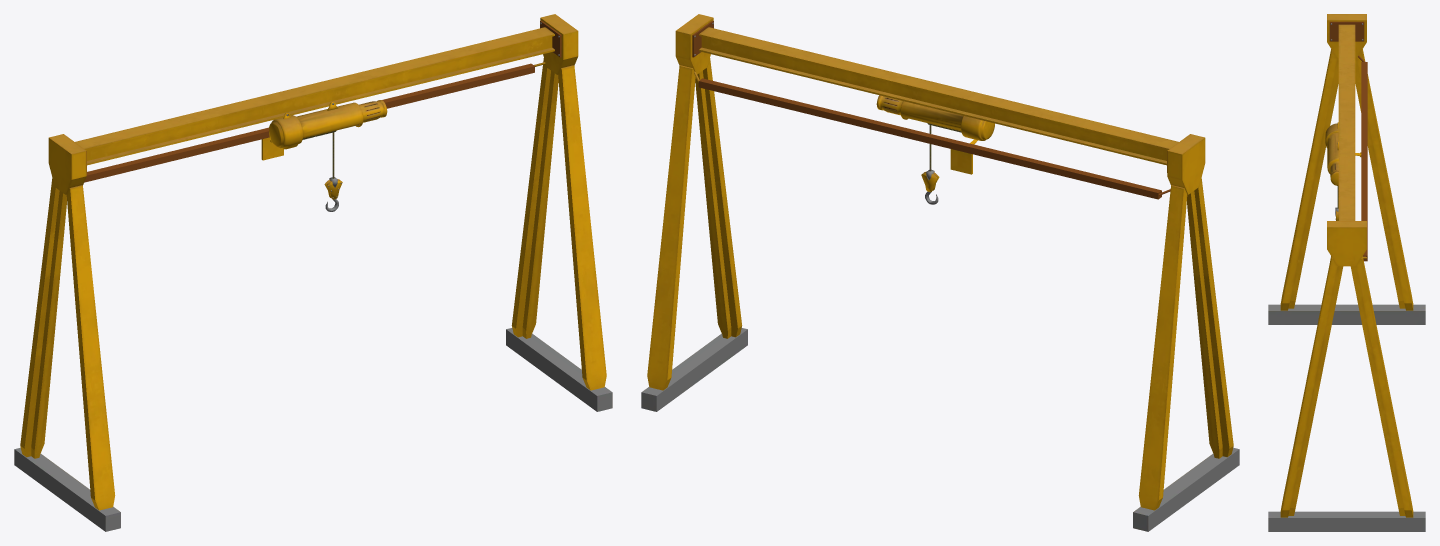
The model's file is gantry_portica.glb.
3 views of the same model, side by side, from view 1: azimuth 30°, elevation 25°; view 2: azimuth 150°, elevation 25°; view 3: azimuth 270°, elevation 25° (orthographic). The views are drawn at different scales.
Visible parts, largest first — view 1: Cylinder.001_maquina portico_0; view 2: Cylinder.001_maquina portico_0; view 3: Cylinder.001_maquina portico_0.
Part boxes in pixels (box(x1,y1,x2,y2)): Cylinder.001_maquina portico_0: box(14, 14, 612, 531); Cylinder.001_maquina portico_0: box(641, 14, 1239, 531); Cylinder.001_maquina portico_0: box(1268, 14, 1425, 531).
Size of the model in its own units: 8.53 by 5.62 by 2.63.
Materials: 1 (1 with a texture image).
